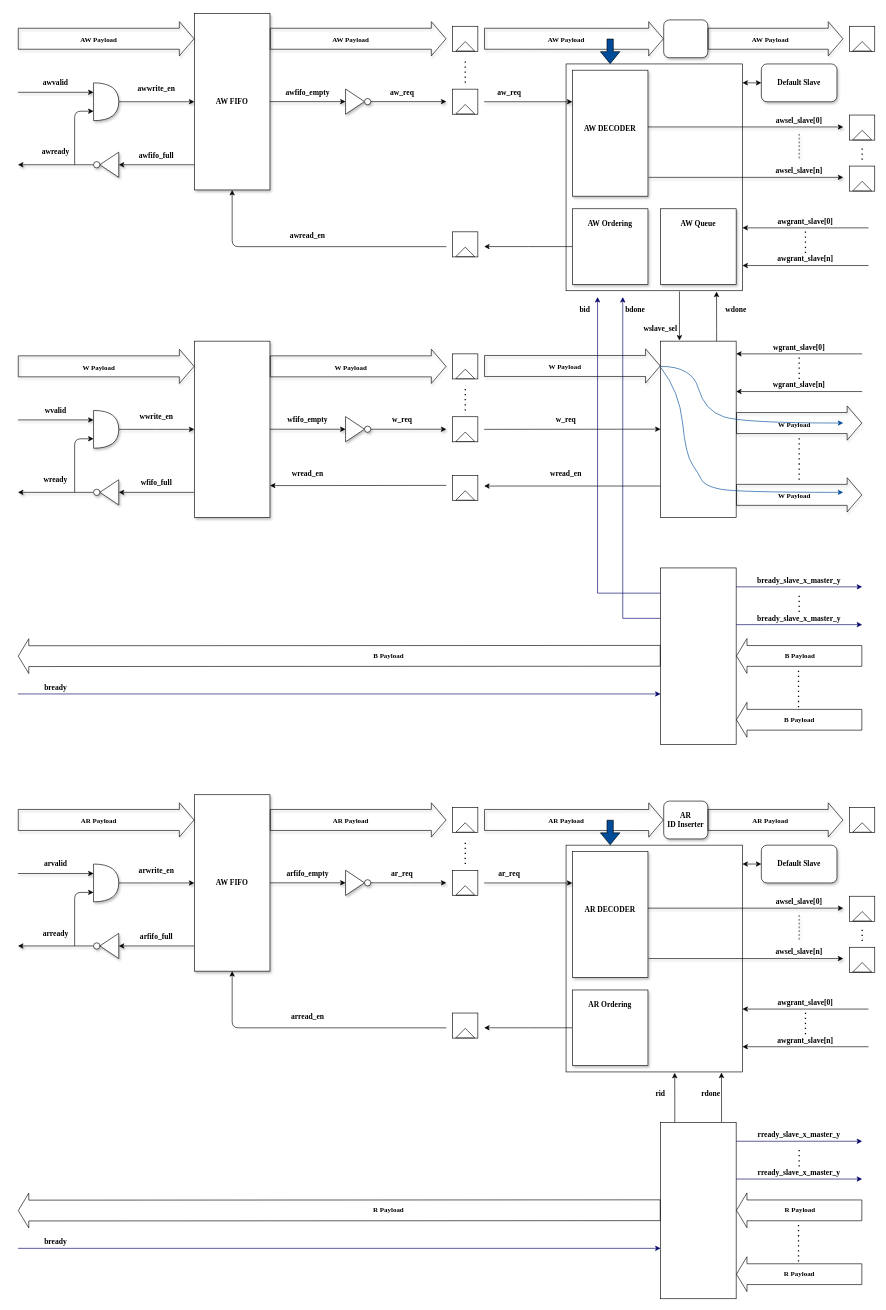
Some shapes in this 886 by 1310 pixel diagram are drawn without their labels. Here are the shapes that lost their labels. From the top down, the centre of each, then its label:
At point (686, 39): "AW ID Inserter".
At point (232, 430): "W FIFO".
At point (698, 429): "Router".
At point (698, 655): "B Arbiter".
At point (698, 1210): "R Arbiter".
